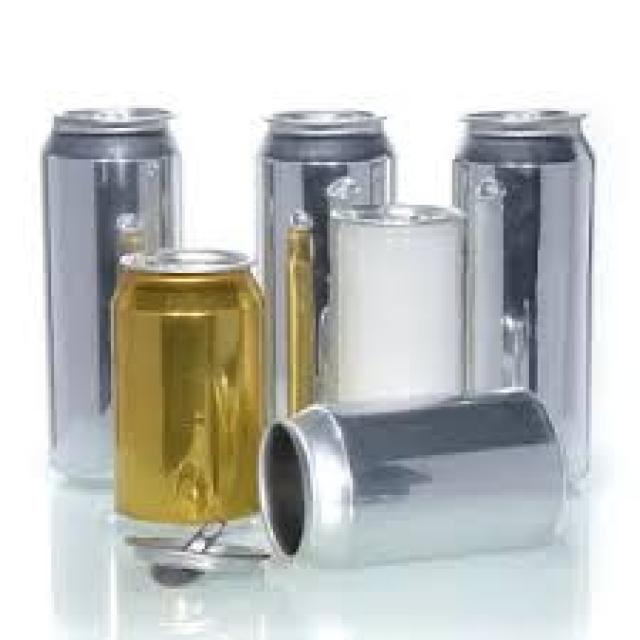Cans: (253, 384, 566, 580), (105, 245, 273, 532)
